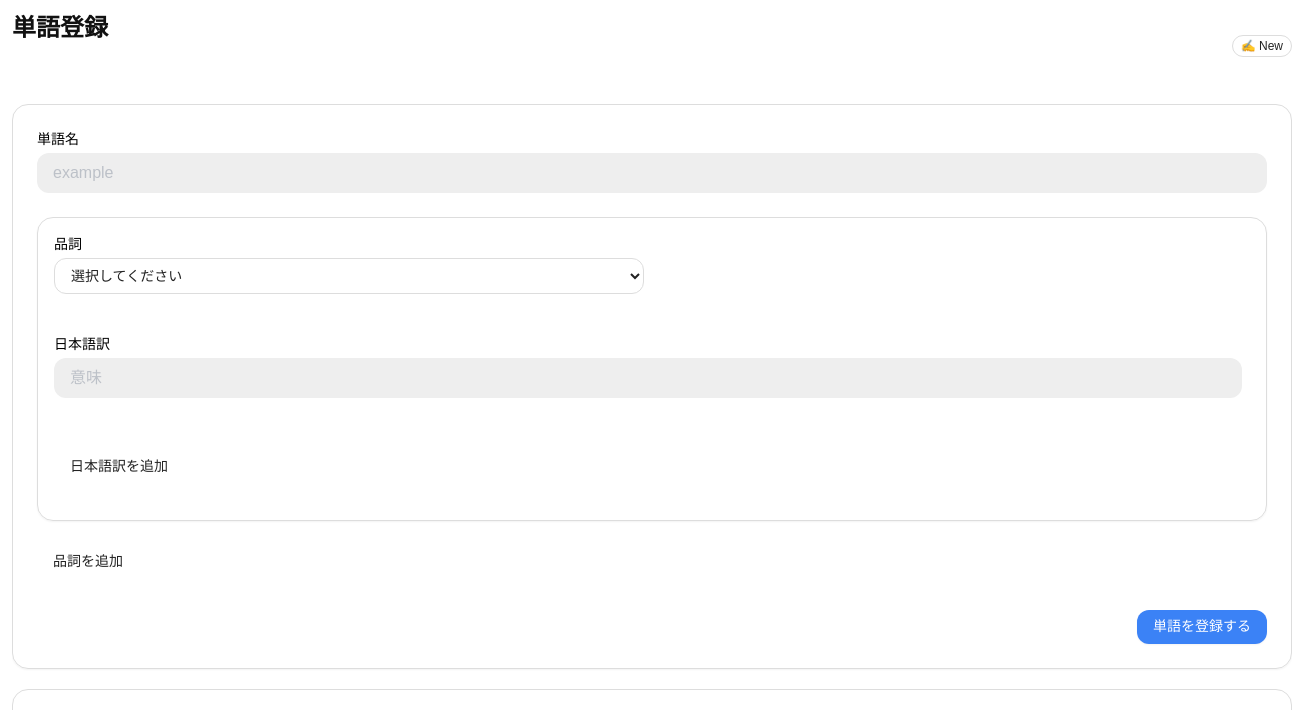
Scenario: WordNew Component › API 失敗時はエラーメッセージを表示
Type "apple" into the field with placeholder "example".
click(652, 173); type("apple")  # box x1=37 y1=153 x2=1267 y2=193
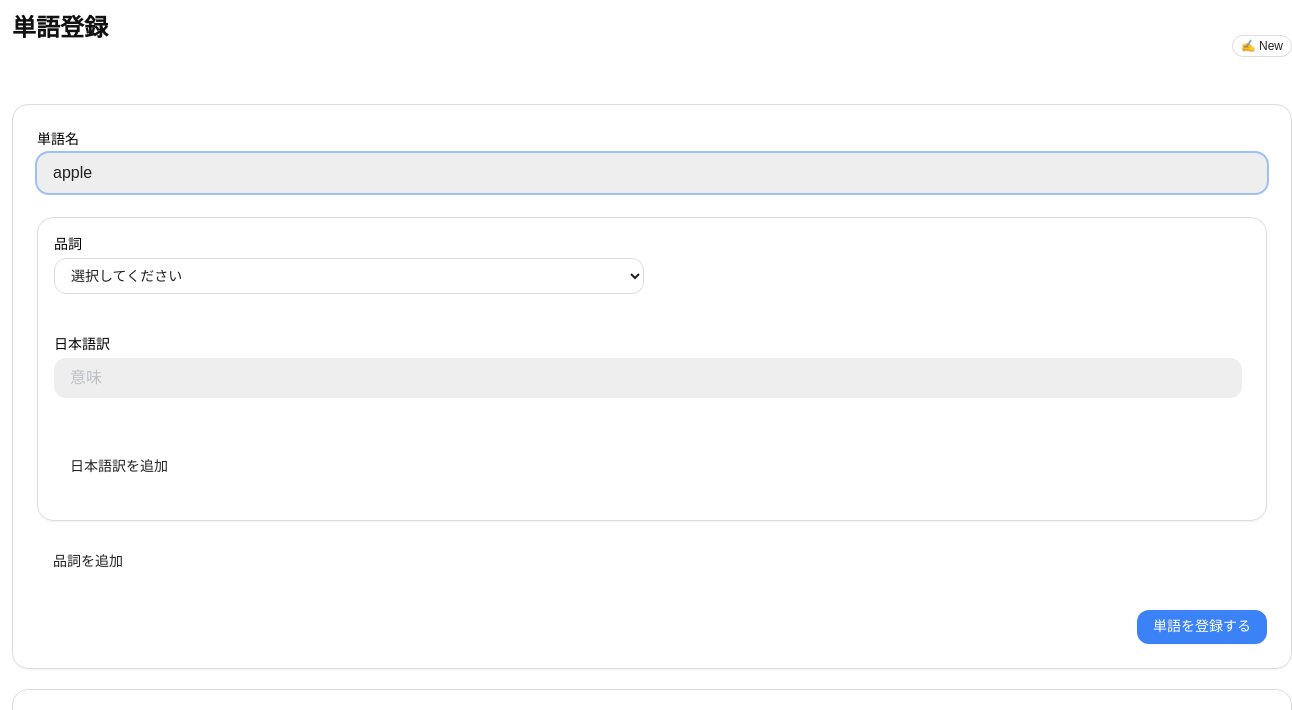
Select "名詞" in the dropdown at {"x": 349, "y": 276}, box x1=54 y1=258 x2=644 y2=294
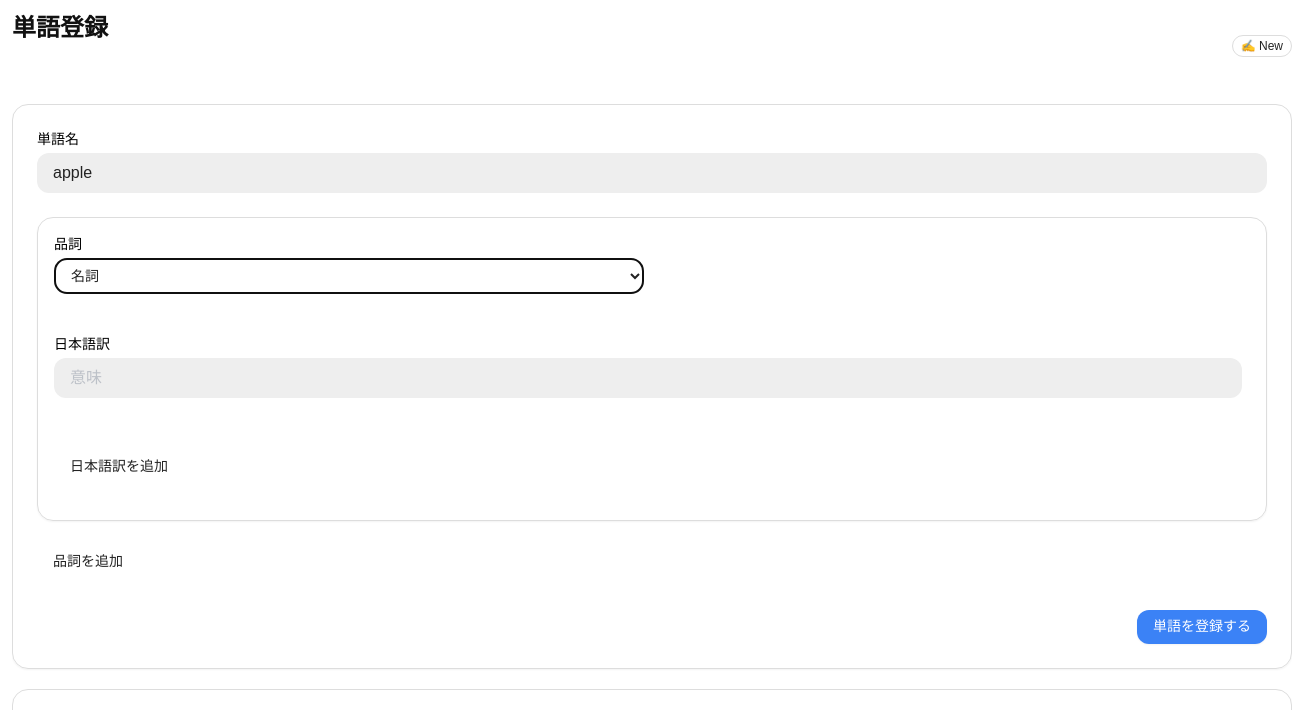
Type "りんご" into the field with placeholder "意味".
click(648, 378); type("りんご")  # box x1=54 y1=358 x2=1242 y2=398
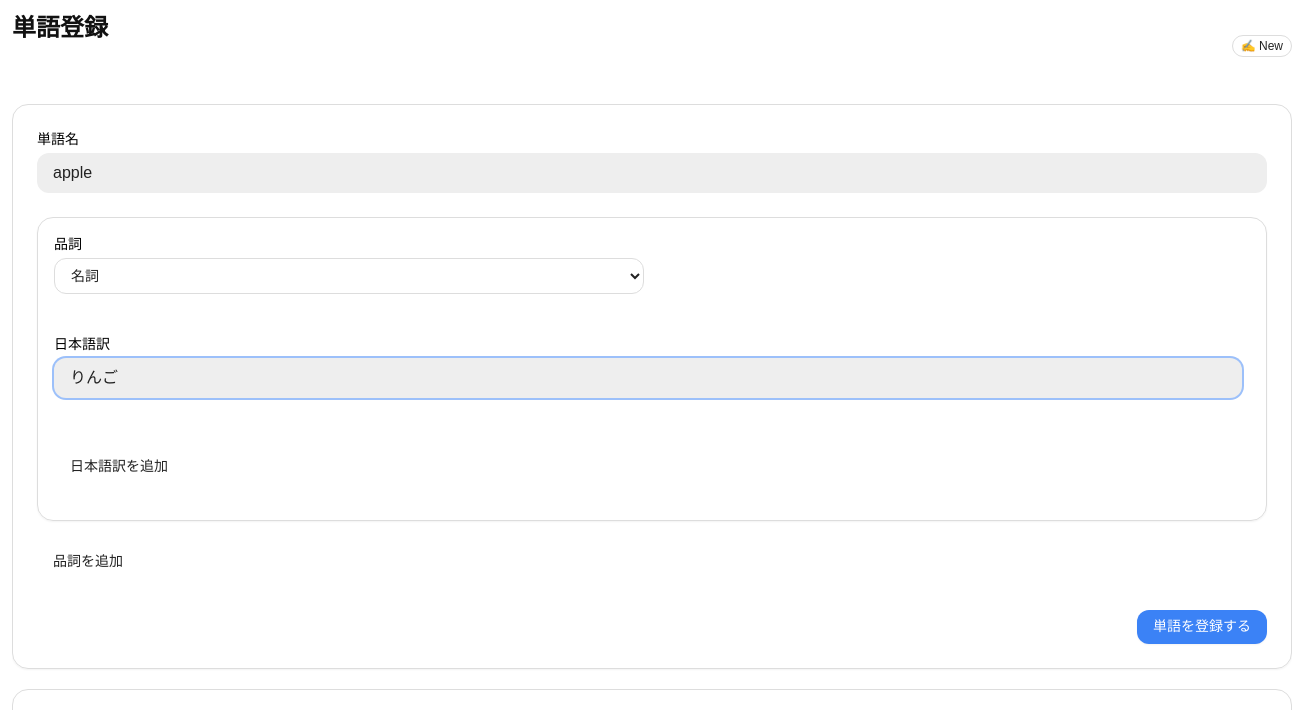
Click the button "単語を登録する".
click(1202, 627)  # box x1=1137 y1=610 x2=1267 y2=644
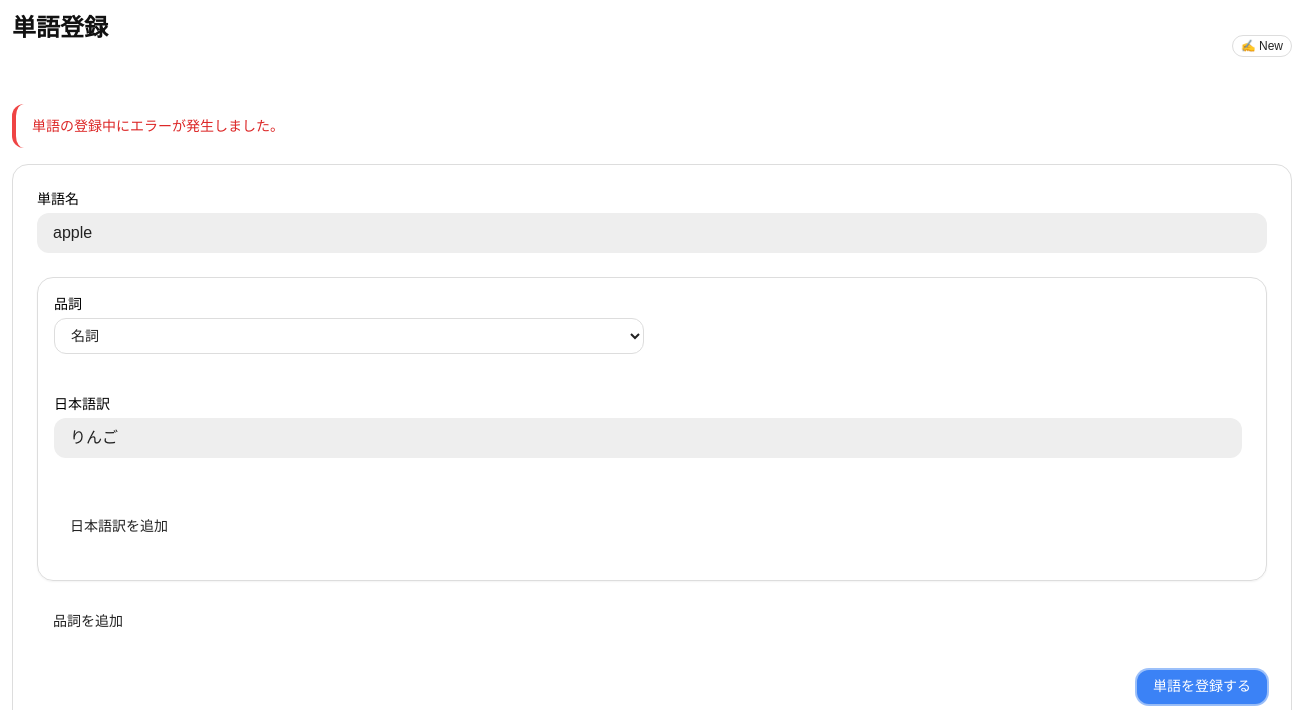
Check: the text "単語の登録中にエラーが発生しました。" is shown, box x1=12 y1=104 x2=1291 y2=148
